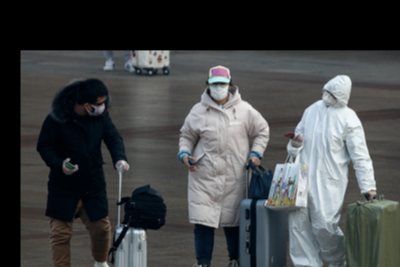with_mask: (208, 81, 228, 101), (88, 98, 105, 118), (320, 89, 336, 106)
